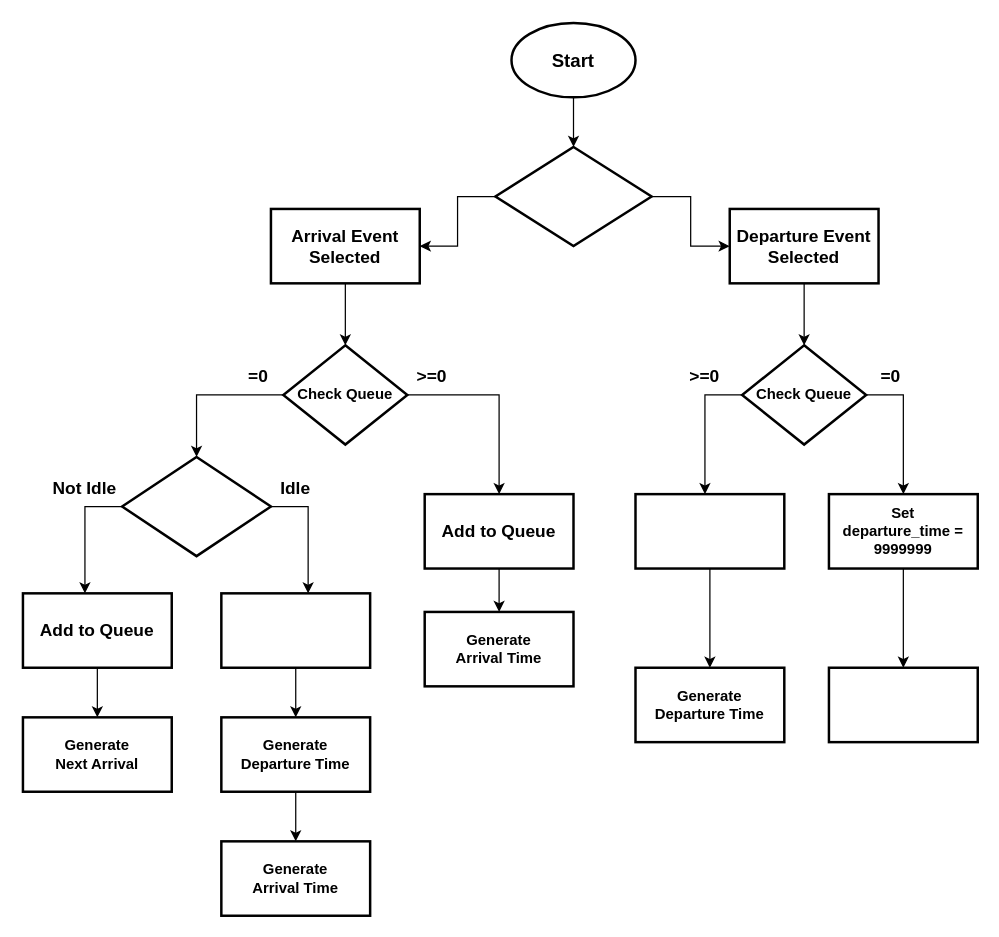
This 999x937 diagram has some shape labels left out. The shapes that lost their labels are listed below. From the top down, each one's centre as x and y in pixels, then its label:
At [573,196]: "Check Next Event".
At [196,506]: "Check ServiceStatus".
At [709,530]: "Remove Unit from Queue".
At [295,629]: "Make server_idle = False".
At [902,704]: "Set server_idle = True".
